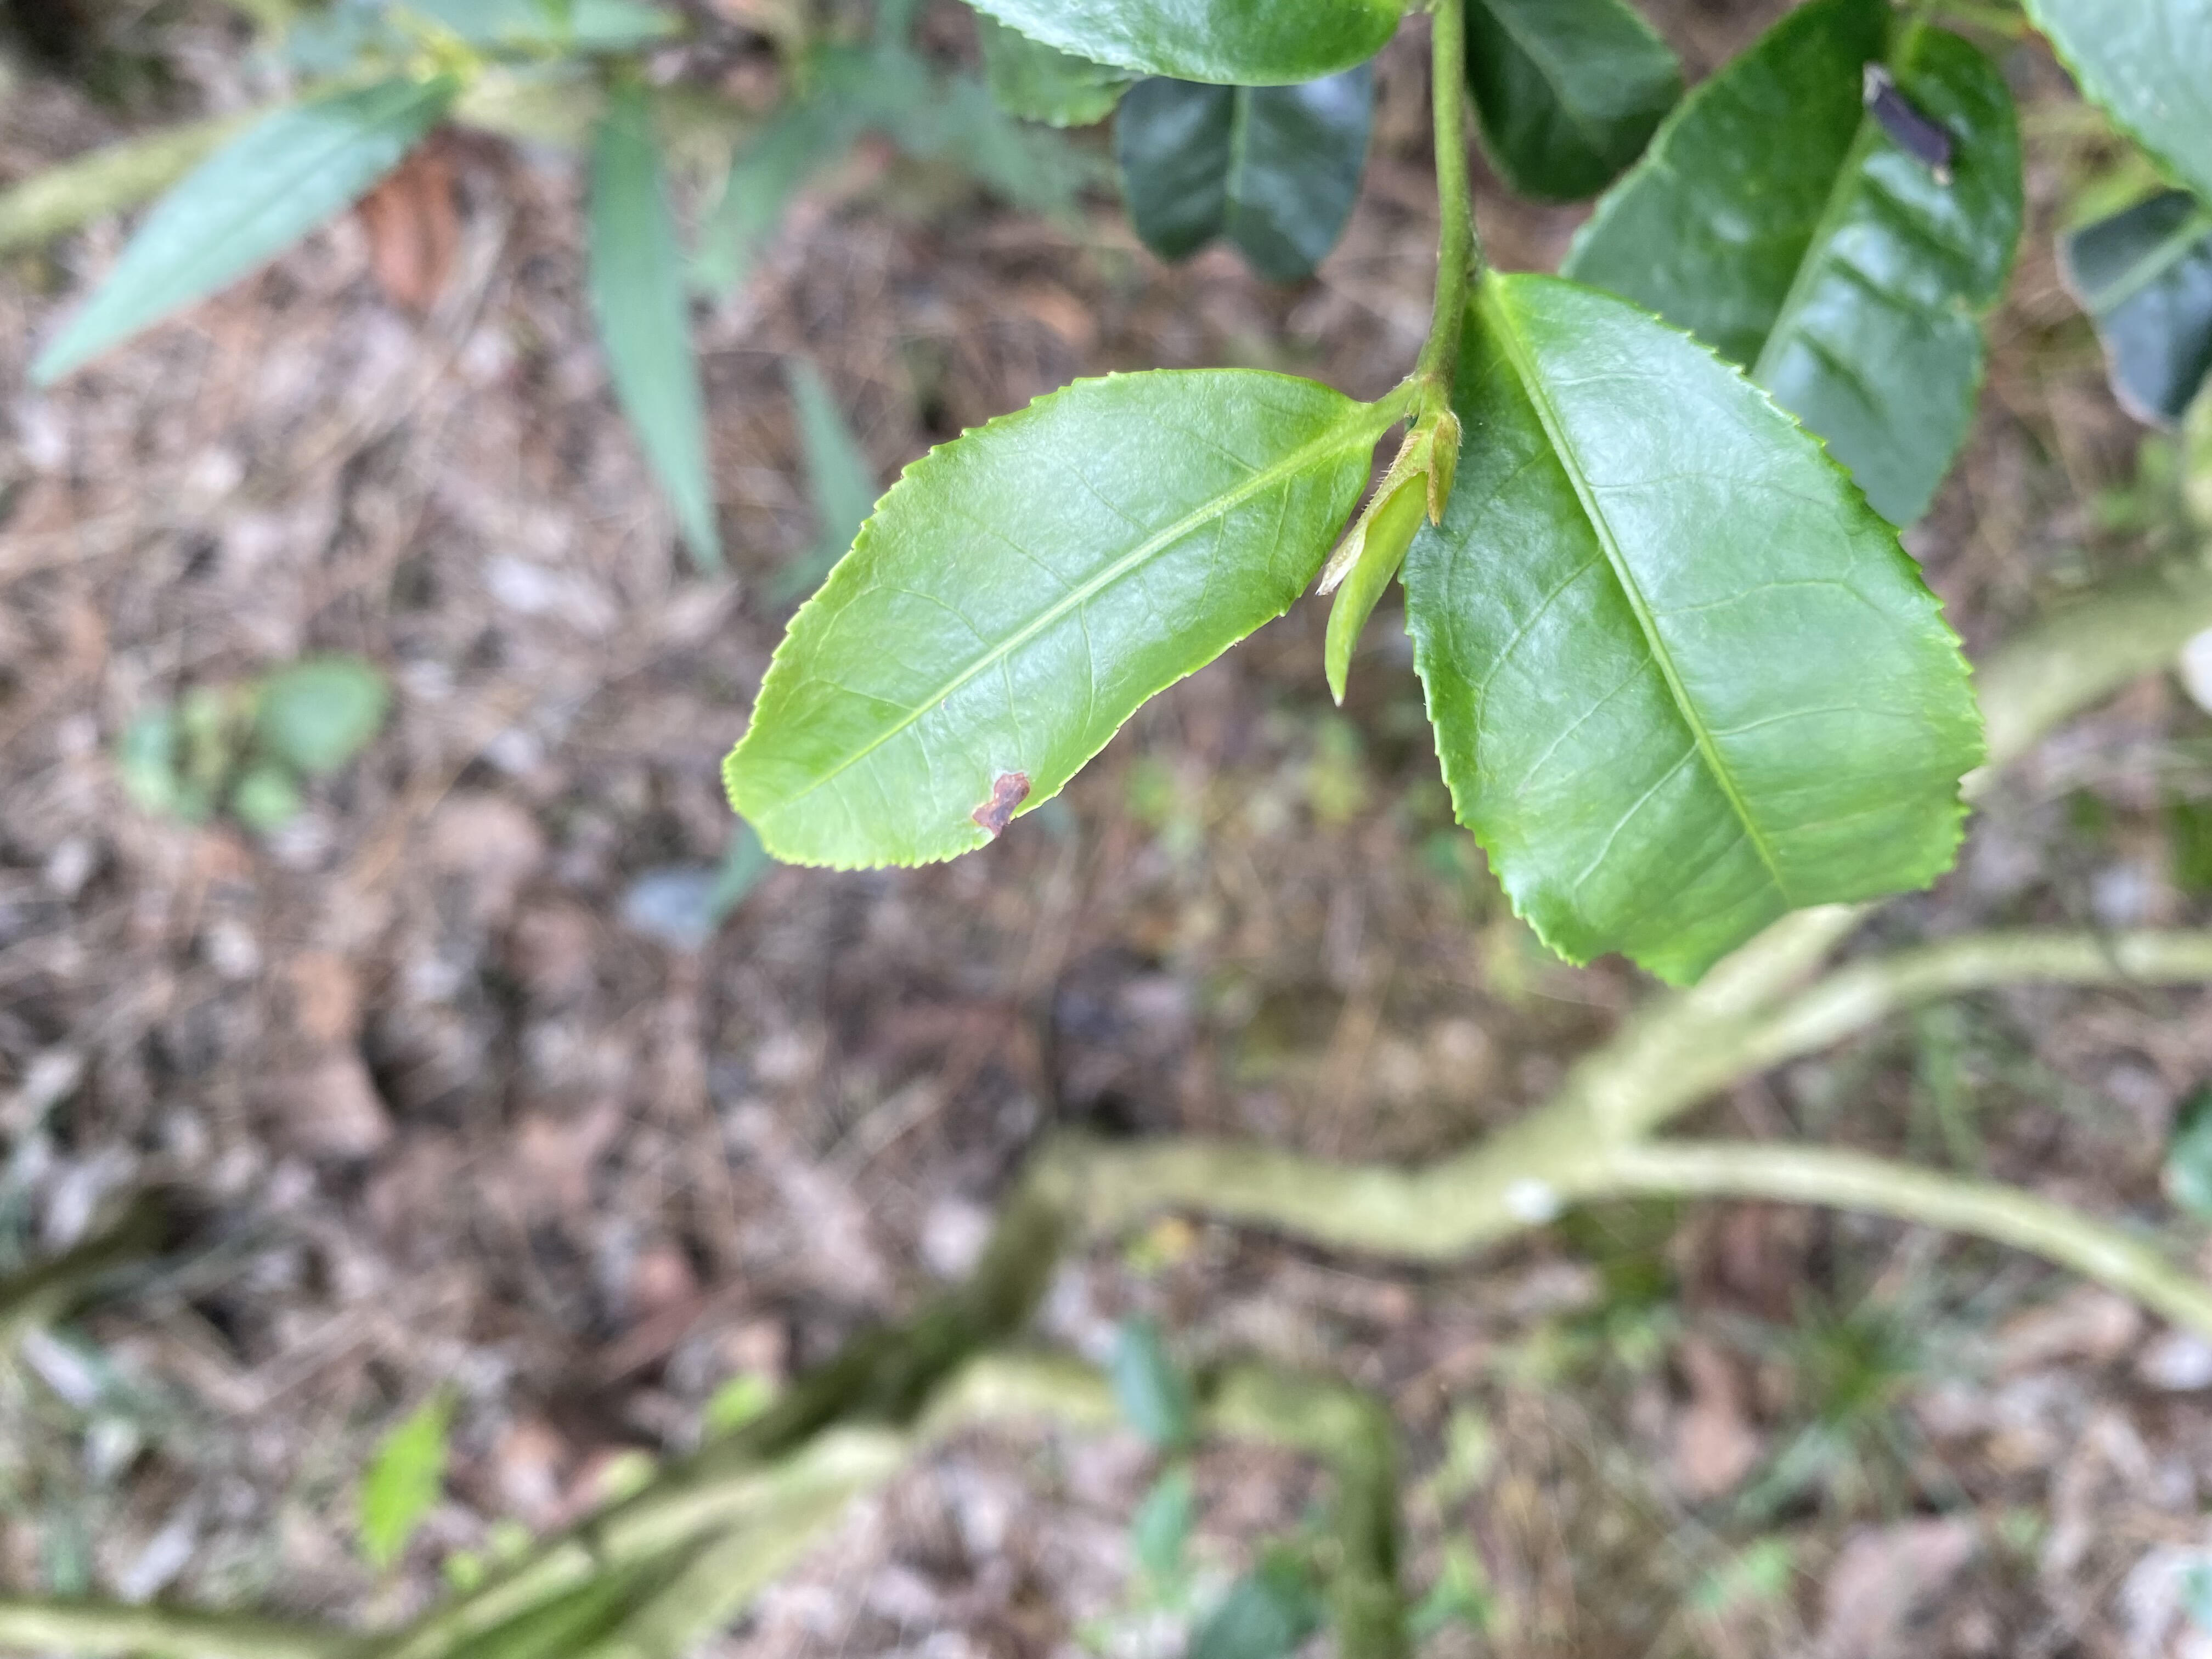healthy: (1399, 272, 1993, 993)
tanju_high: (718, 368, 1379, 875)
